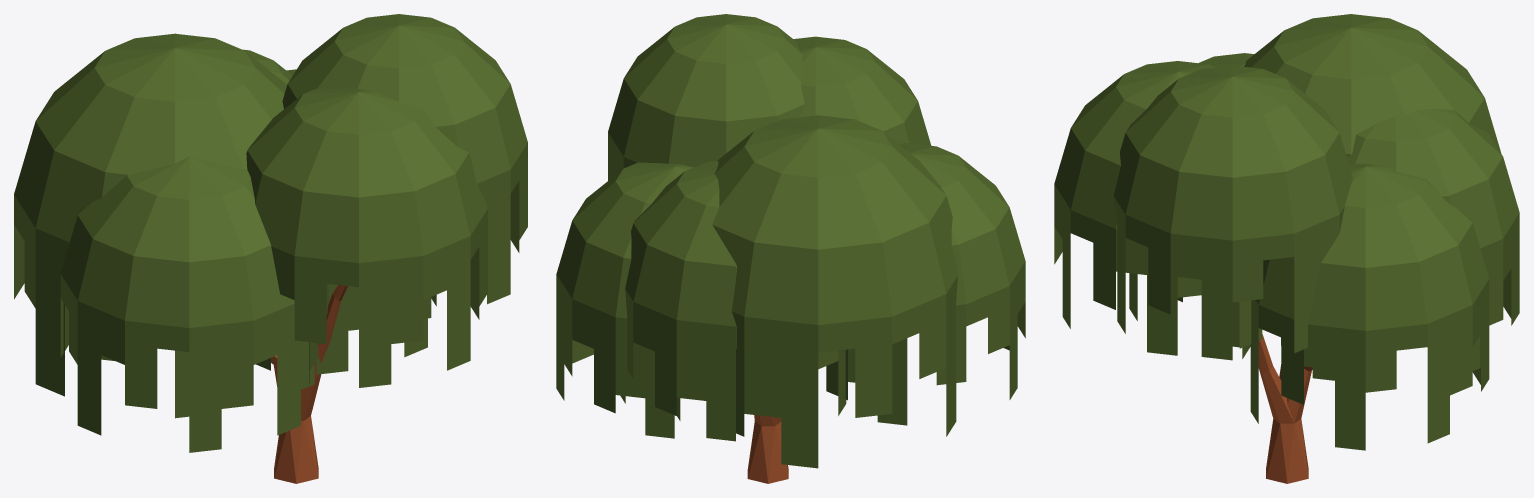
File: willow_tree_4.fbx
3 views of the same model, side by side, from view 1: azimuth 30°, elevation 25°; view 2: azimuth 150°, elevation 25°; view 3: azimuth 270°, elevation 25° (orthographic). The views are drawn at different scales.
Visible parts, largest first — view 1: _G-Object (Loose Mesh), _G-Object.001 (Loose Mesh), G-Object.003; view 2: _G-Object (Loose Mesh), _G-Object.001 (Loose Mesh); view 3: _G-Object (Loose Mesh), _G-Object.001 (Loose Mesh), G-Object.003.
Part boxes in pixels (x1,y1,x2,y2): _G-Object (Loose Mesh): [14, 14, 527, 452]; _G-Object.001 (Loose Mesh): [271, 355, 318, 483]; G-Object.003: [301, 285, 348, 420]; _G-Object (Loose Mesh): [556, 14, 1025, 468]; _G-Object.001 (Loose Mesh): [747, 417, 788, 483]; _G-Object (Loose Mesh): [1054, 14, 1519, 450]; _G-Object.001 (Loose Mesh): [1266, 364, 1308, 483]; G-Object.003: [1239, 301, 1294, 423].
Size of the model in its own units: 776 by 783 by 765.
